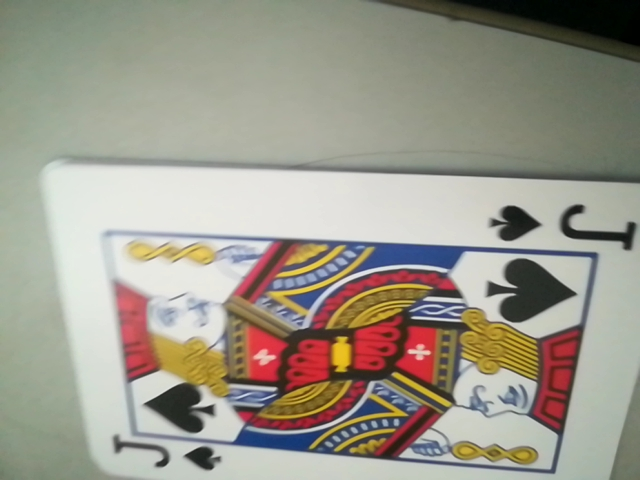ht j: (480, 193, 636, 254), (100, 430, 227, 477)
